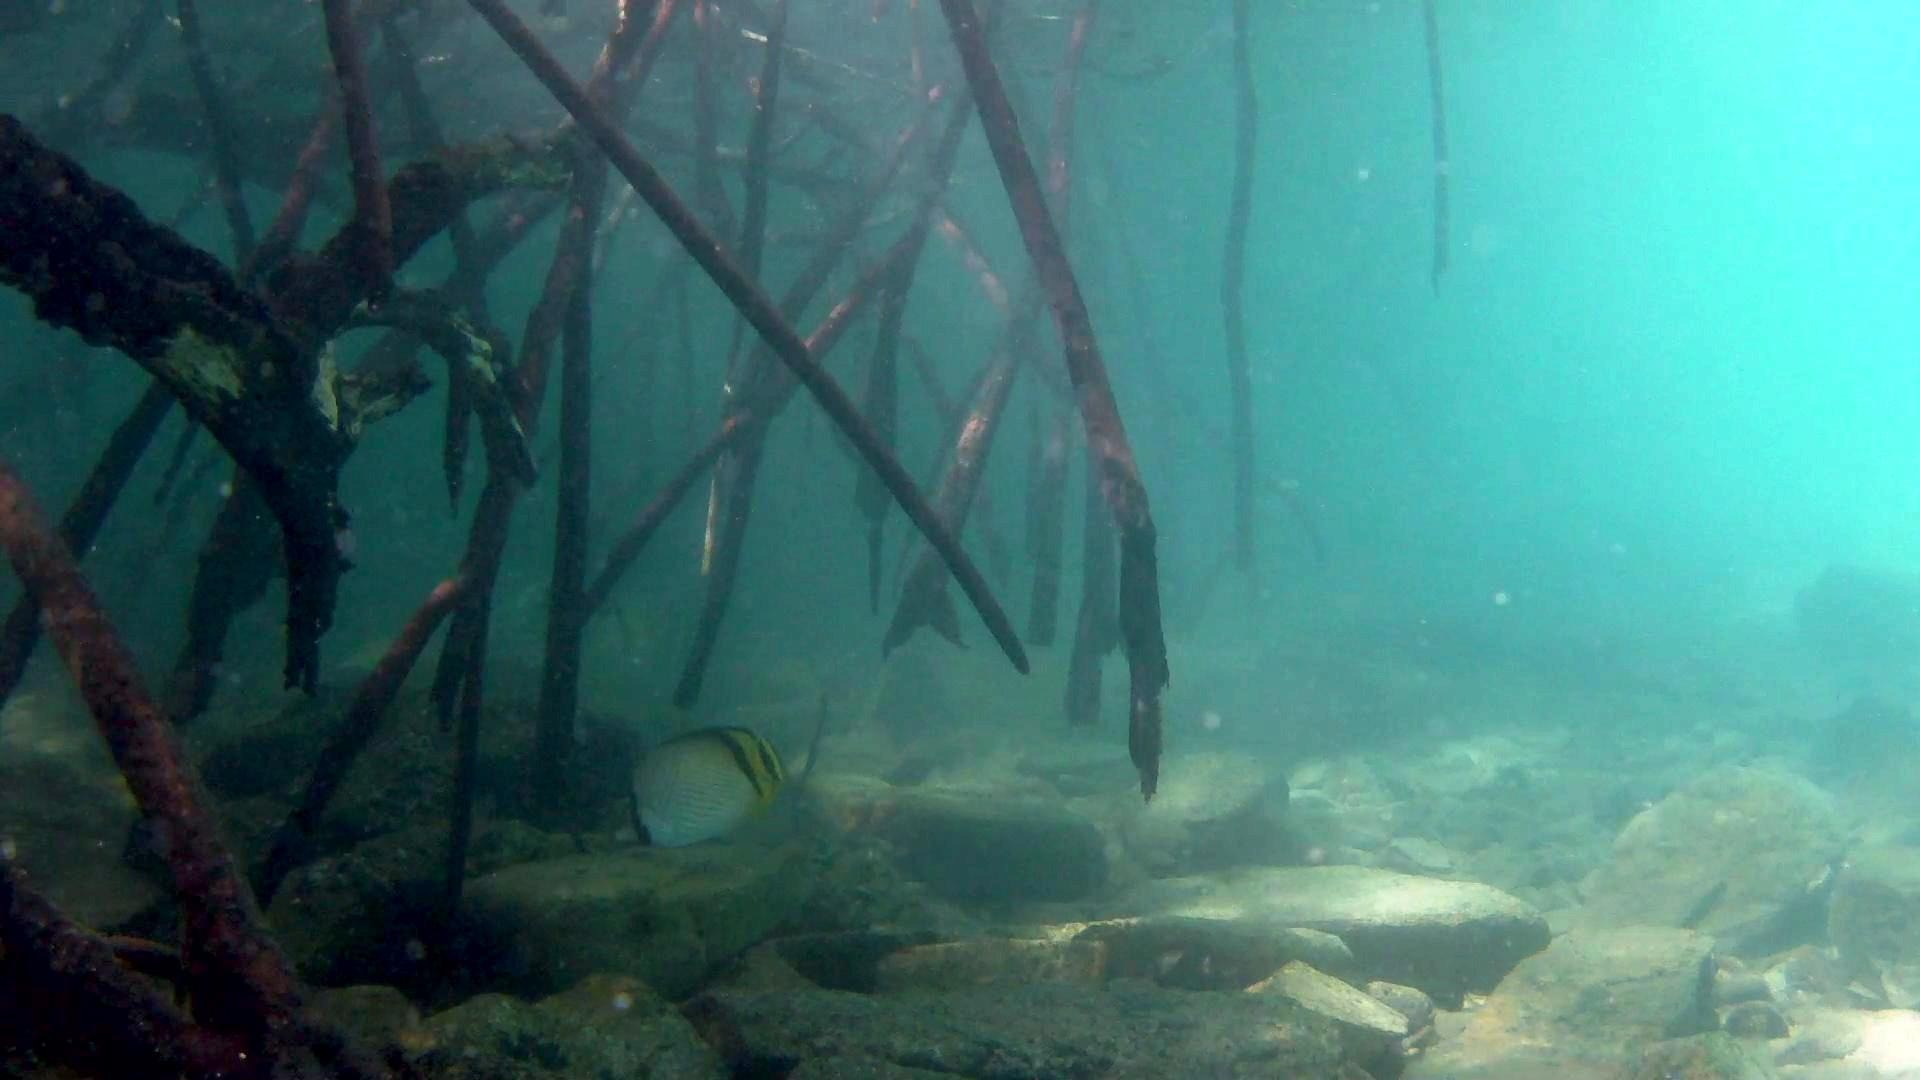chaetodon vagabundus: (613, 724, 788, 852)
